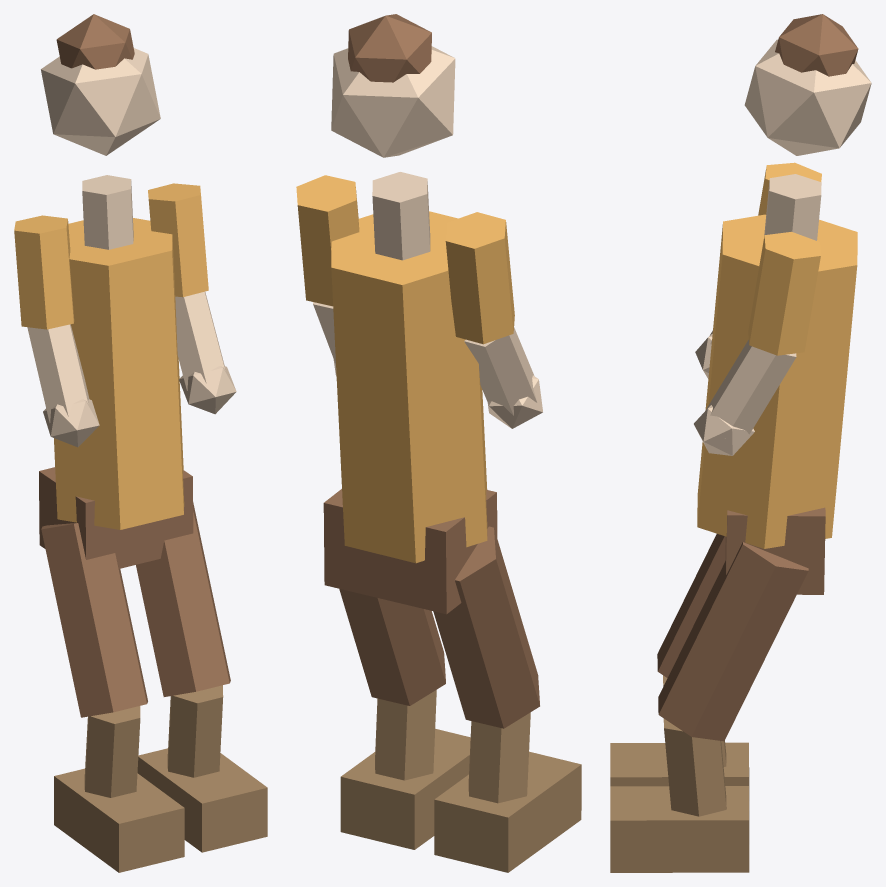
Rendered from pose_hit_light_15.glb.
3 renders of one model, left to right at view 1: azimuth 30°, elevation 25°; view 2: azimuth 150°, elevation 25°; view 3: azimuth 270°, elevation 25°, orthographic. The views are drawn at different scales.
Visible parts, largest first — view 1: pose; view 2: pose; view 3: pose.
Part boxes in pixels (box(x1,y1,x2,y2)): pose: box(14, 14, 267, 872); pose: box(296, 14, 581, 872); pose: box(610, 14, 871, 872).
Size of the model in its own units: 0.3963 by 1.57 by 0.452.
